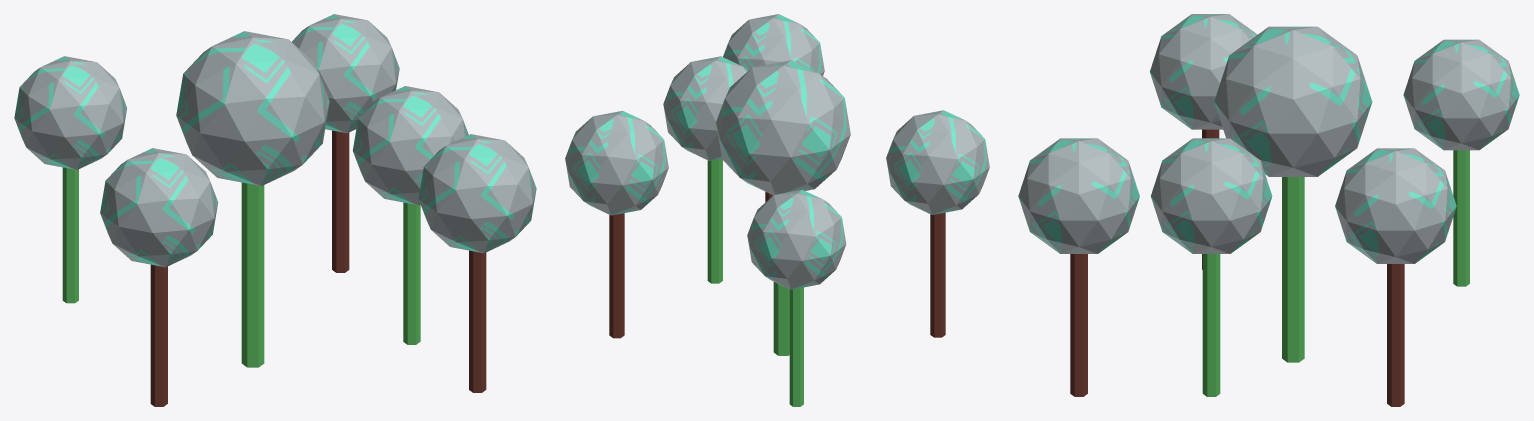
The model's file is flower2.fbx.
The picture shows the model from 3 angles, left to right: view 1: azimuth 30°, elevation 25°; view 2: azimuth 150°, elevation 25°; view 3: azimuth 270°, elevation 25°; orthographic projection. The views are drawn at different scales.
Parts seen in each view (by area): view 1: flower2; view 2: flower2; view 3: flower2.
Boxes of the visible parts, box(x1,y1,x2,y2) form: flower2: box(14, 14, 536, 406); flower2: box(565, 14, 989, 406); flower2: box(1018, 14, 1519, 406).
Size of the model in its own units: 323 by 270 by 374.
